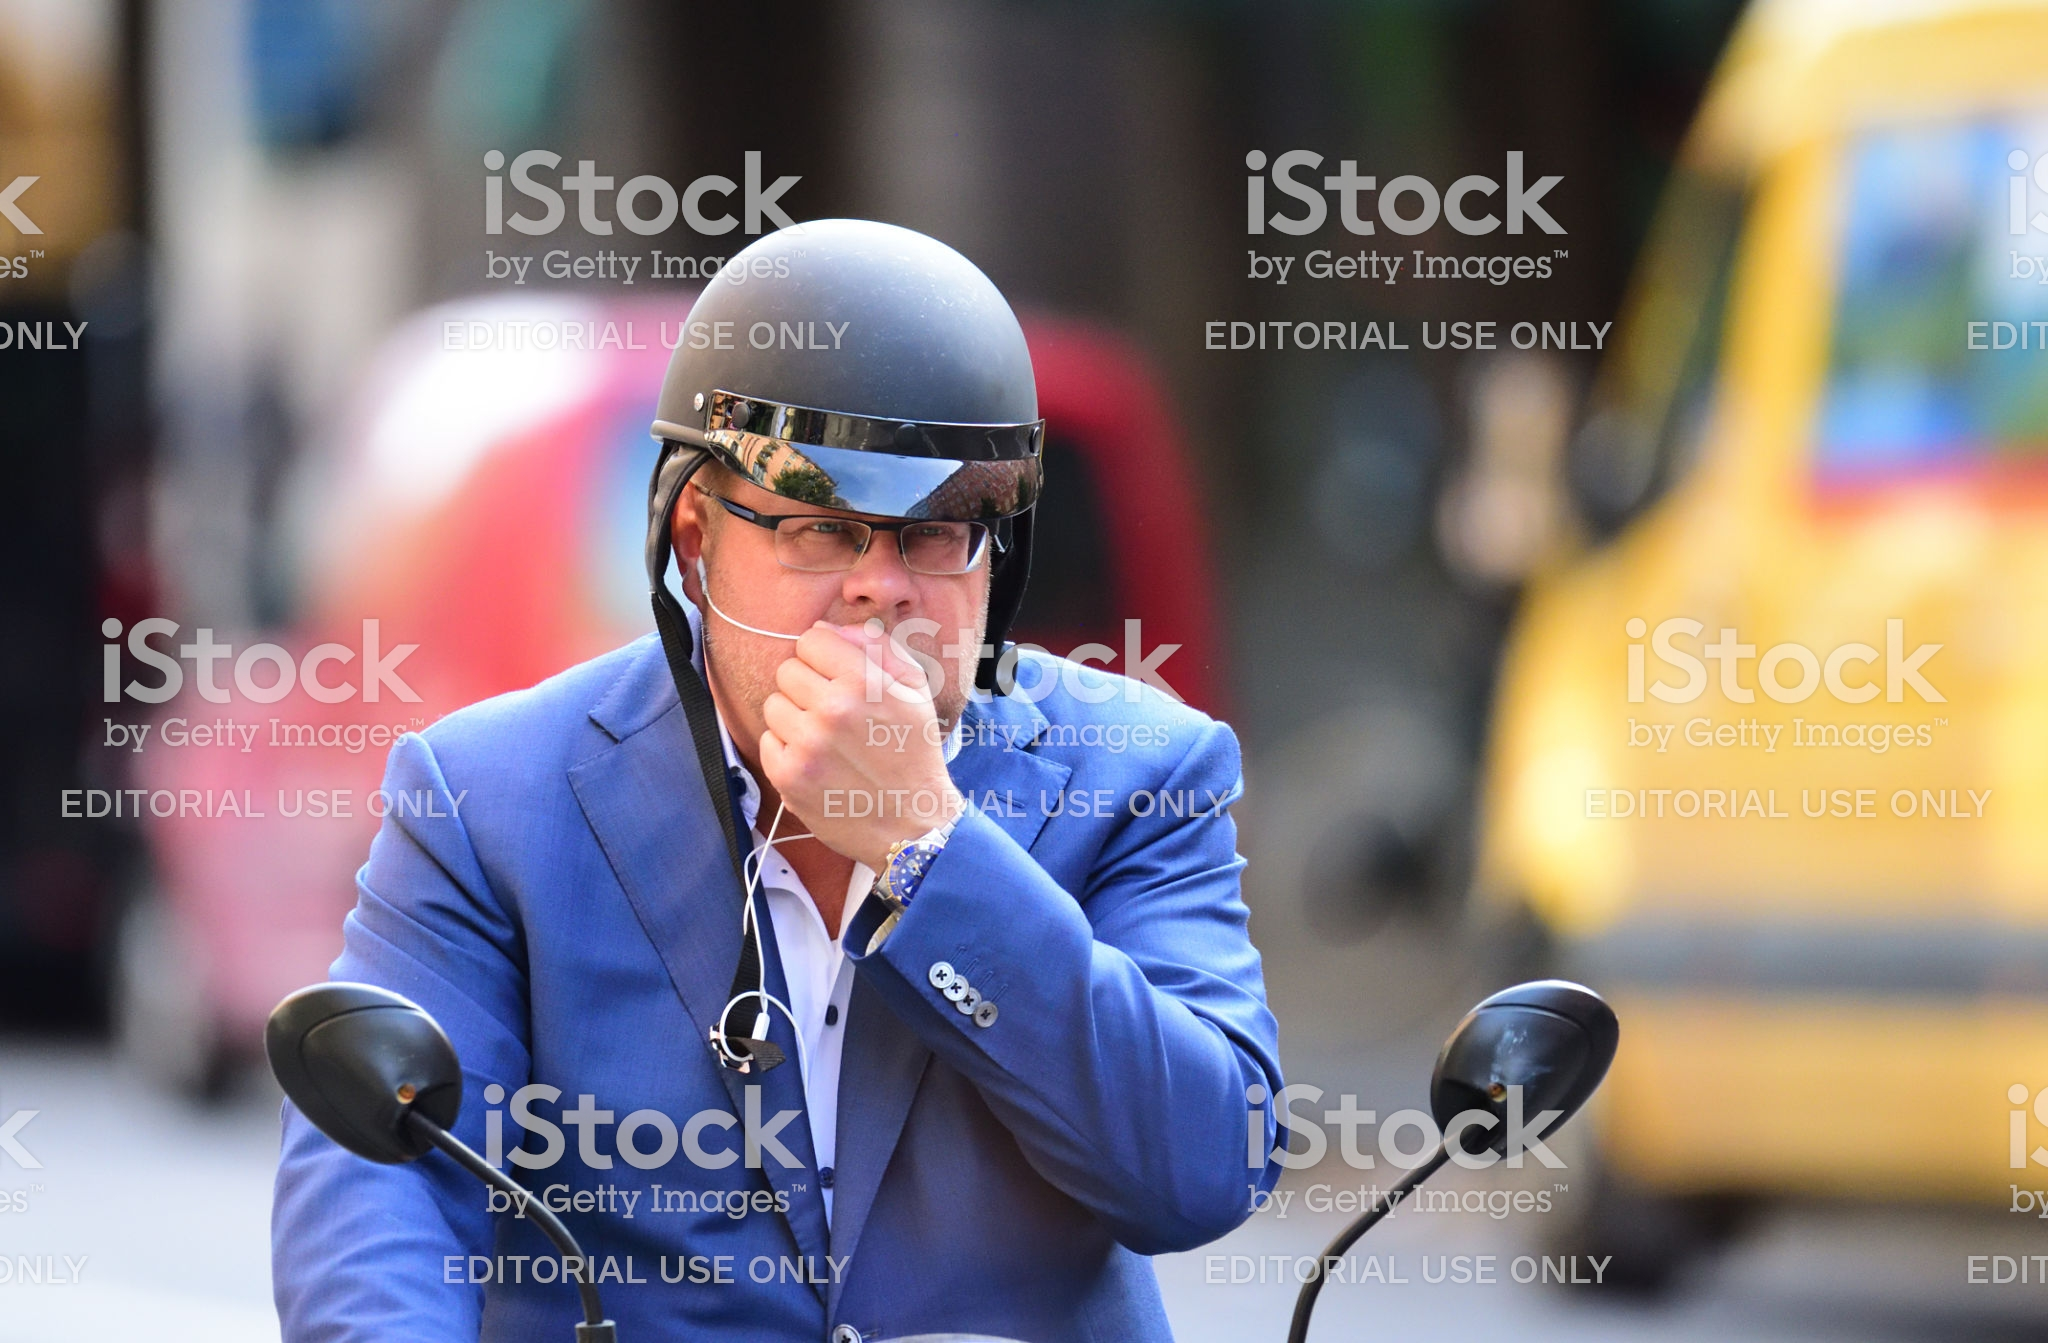helmet: (667, 220, 1139, 570)
